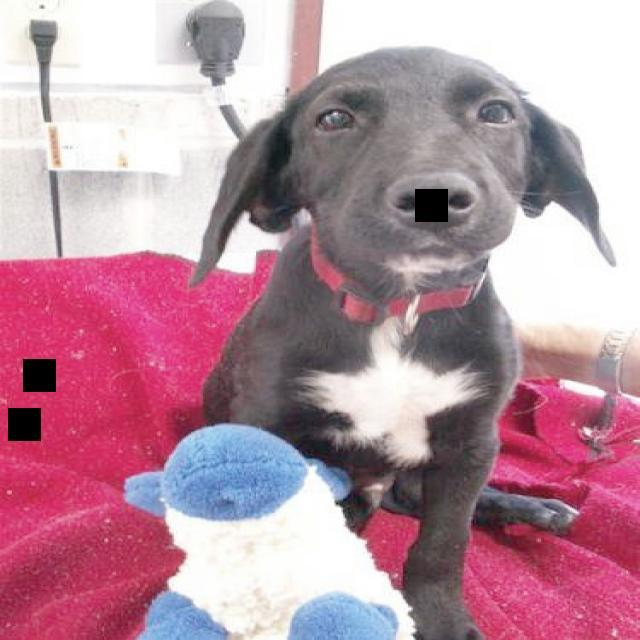puppy-dog: (182, 48, 618, 640)
